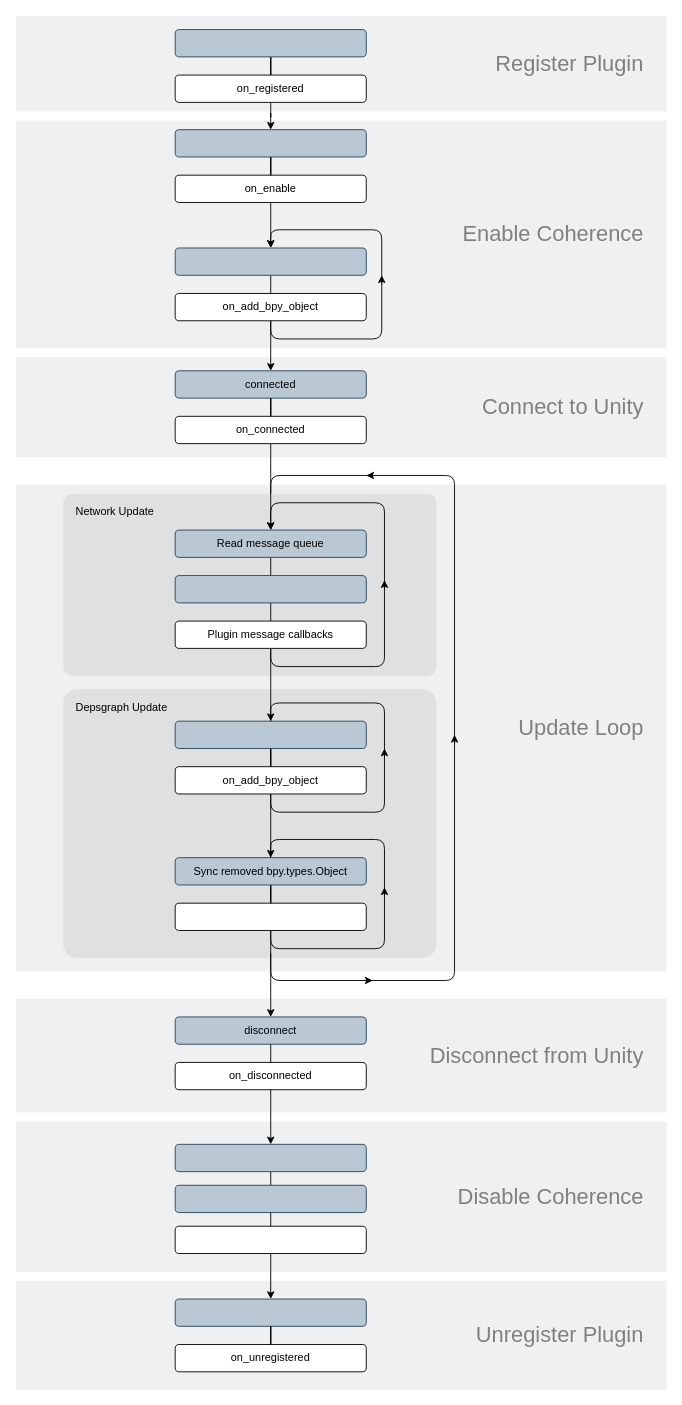
The diagram is 682 pixels wide and 1405 high, and some of its shapes have lost their labels. The shapes that lost their labels are listed below. From the top down, each one's centre as x and y in pixels, then its label:
point (270, 43): register
point (270, 143): enable
point (270, 261): Sync existing bpy.types.Object
point (270, 589): dispatch
point (270, 734): Sync added bpy.types.Object
point (270, 916): on_remove_bpy_object
point (270, 1157): disable
point (270, 1198): destroy_all_objects
point (270, 1239): on_disable
point (270, 1312): unregister
